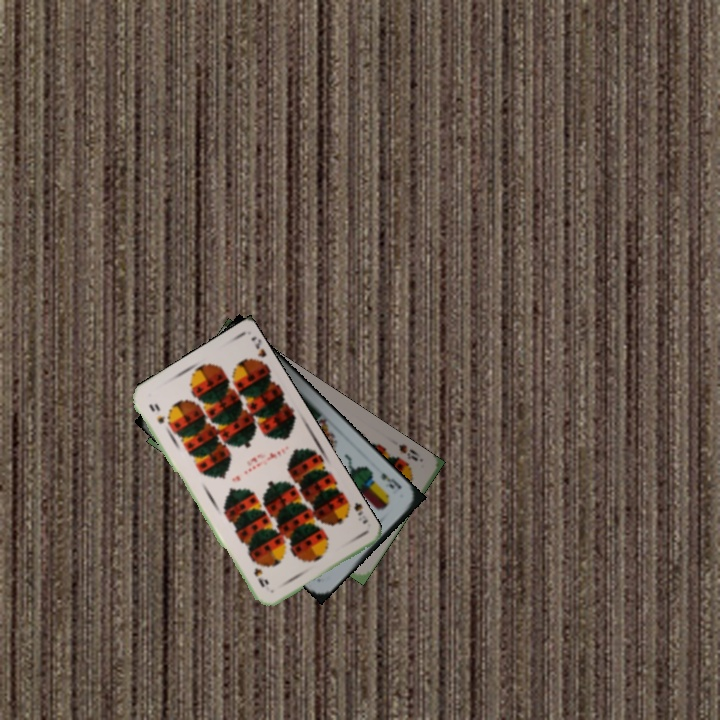EK: (377, 469, 404, 492)
S8: (395, 440, 421, 464)
S9: (339, 496, 370, 526), (145, 399, 167, 426)
